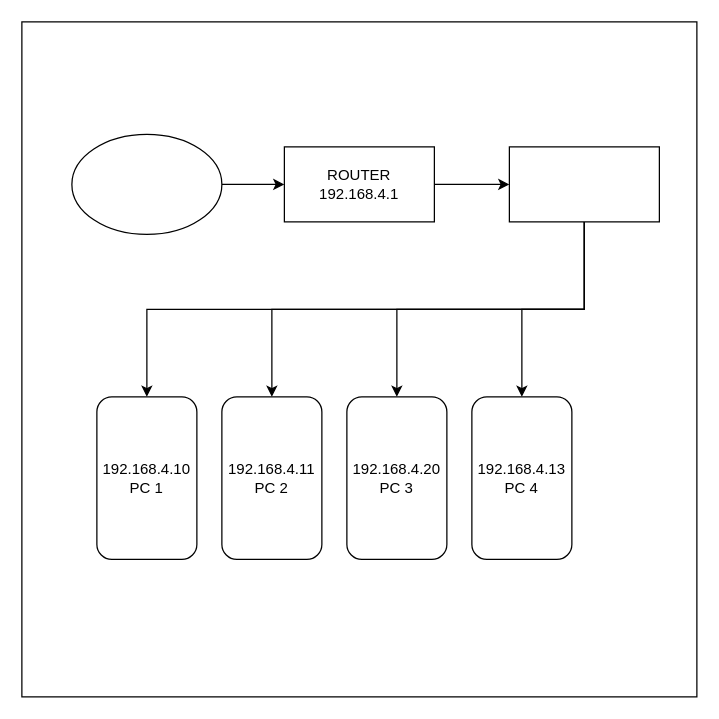
Image size: 719x719. Some labels were removed from this diagram. Each missing label, with the centre of its shape:
"CIDR 192.168.4.0/24" belongs at point 583,184.
"INTERNET" belongs at point 146,183.
